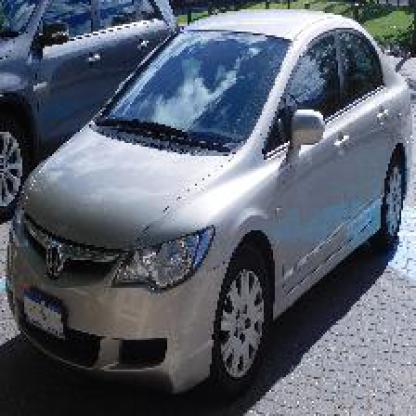not_emergency: (9, 13, 414, 384)
